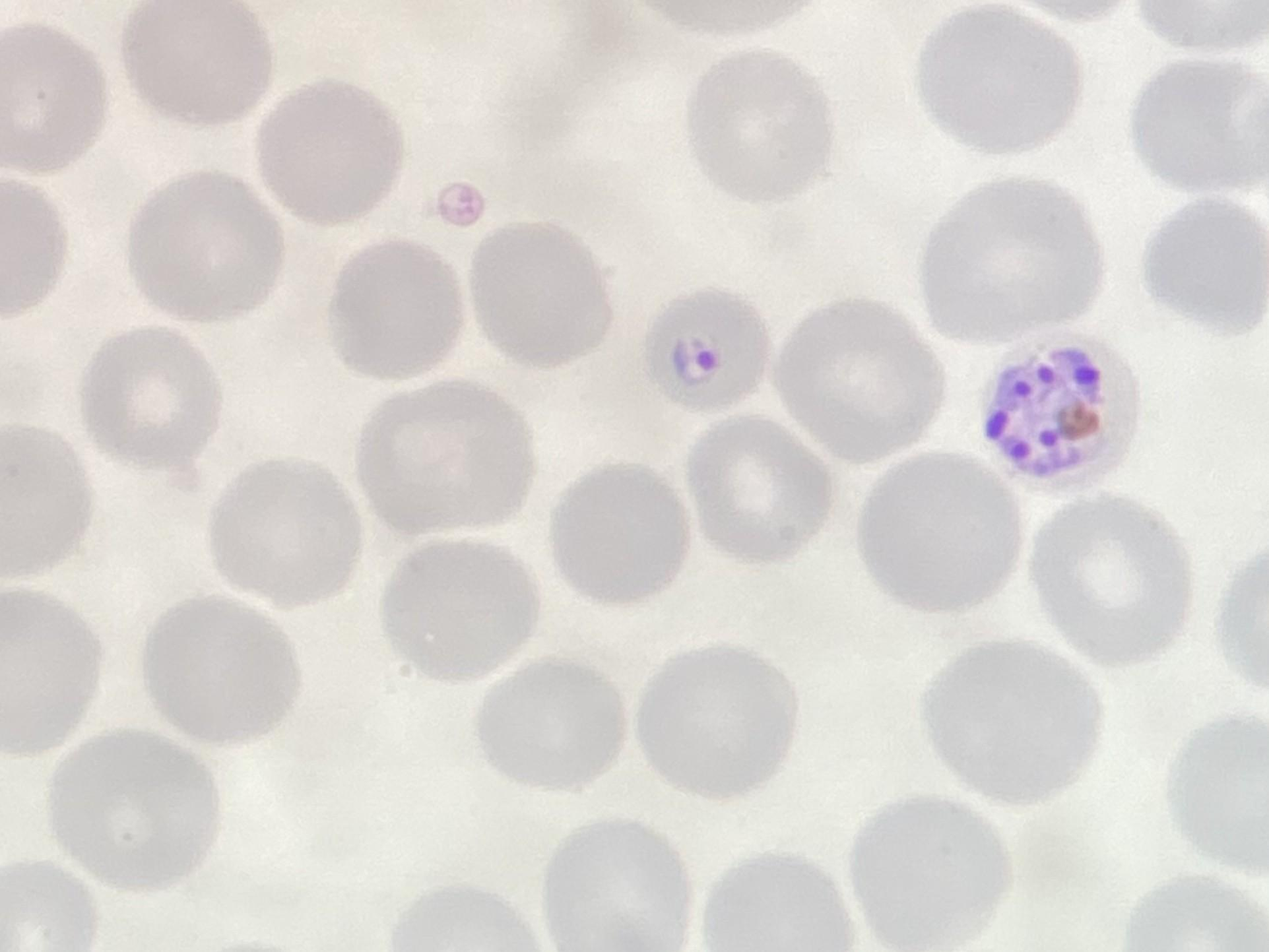Infected: (970, 337, 1135, 502), (647, 289, 765, 411)
Uninfected: (922, 179, 1104, 345), (770, 293, 941, 465), (858, 443, 1022, 621), (924, 647, 1095, 807), (359, 383, 535, 538), (46, 733, 214, 895), (1034, 496, 1188, 662), (123, 174, 280, 324), (851, 803, 1009, 952), (636, 649, 798, 794), (917, 12, 1079, 157), (207, 460, 359, 610), (684, 51, 839, 197), (471, 218, 619, 367), (147, 599, 293, 750), (383, 540, 538, 679), (546, 460, 688, 610), (255, 82, 402, 223), (686, 421, 831, 562), (473, 660, 623, 794), (1128, 58, 1269, 198), (125, 0, 277, 129), (84, 331, 221, 471), (550, 819, 685, 952), (1159, 709, 1269, 869), (328, 243, 458, 376), (0, 592, 100, 756), (4, 25, 109, 181), (1144, 199, 1267, 332), (0, 421, 91, 585), (706, 852, 848, 952)
